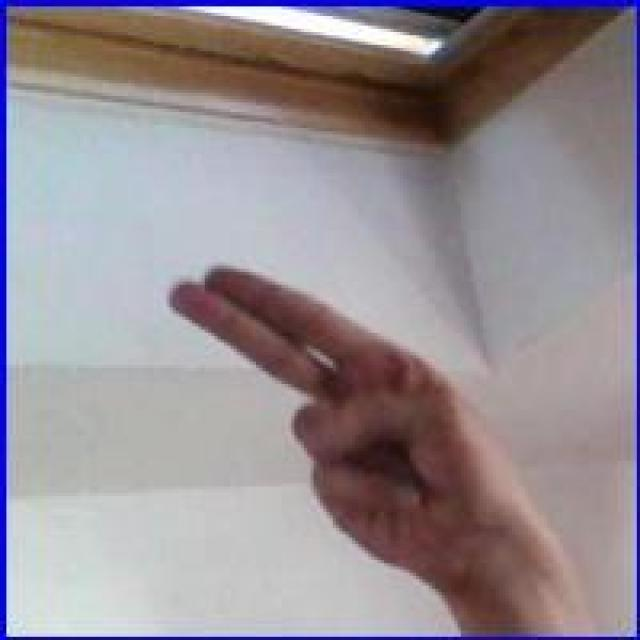H: (170, 262, 538, 598)
